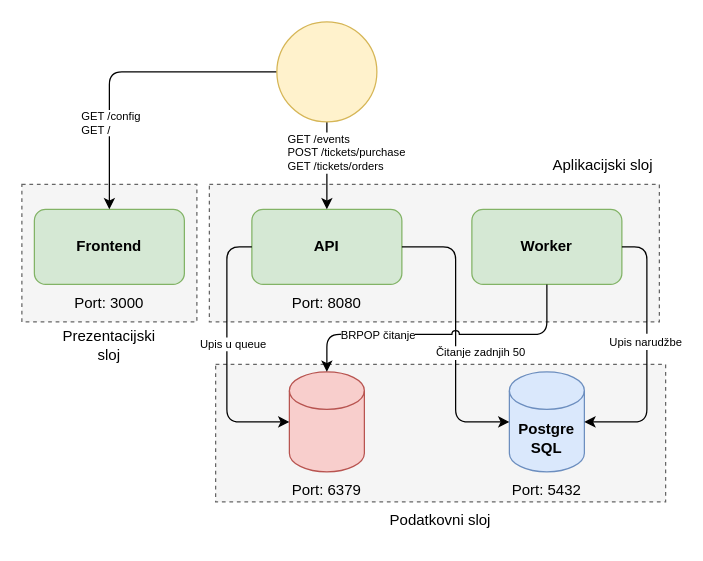
This 703x561 diagram has some shape labels left out. The shapes that lost their labels are listed below. From the top down, each one's box as (x1, y1, x2, y2) in pixels, then its label:
(276, 21, 377, 122): Browser
(288, 371, 364, 472): Redis
